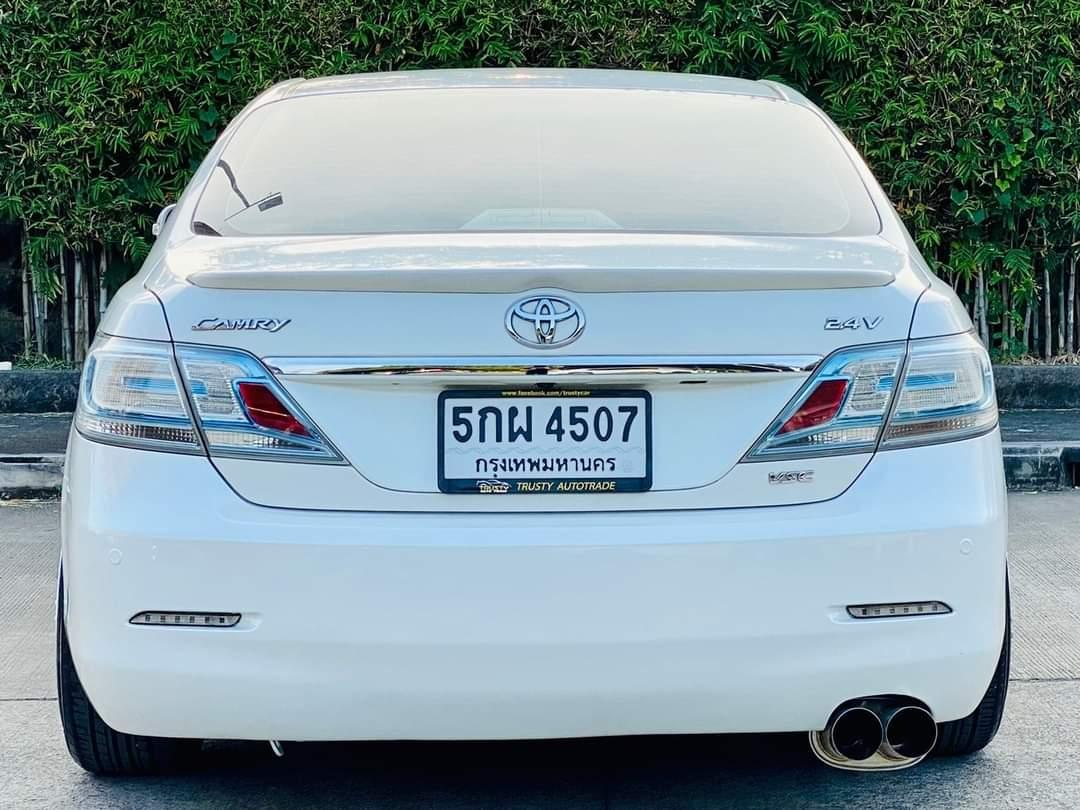license-plate: (434, 384, 658, 496)
